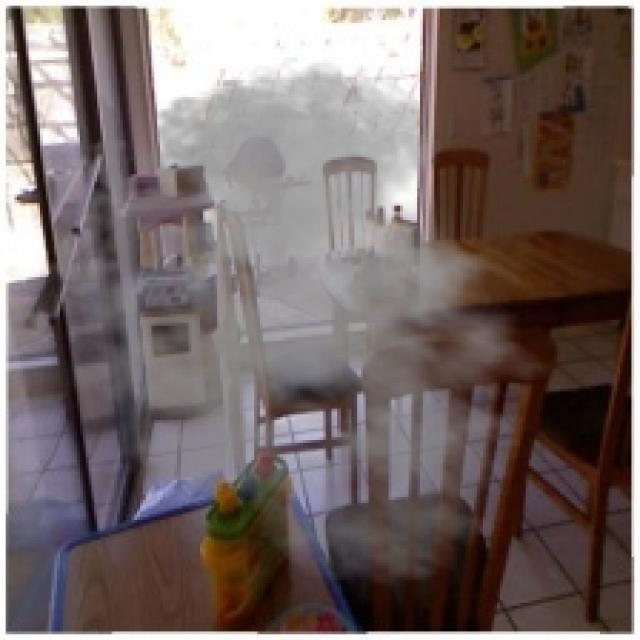Smoke: (26, 54, 572, 589)
